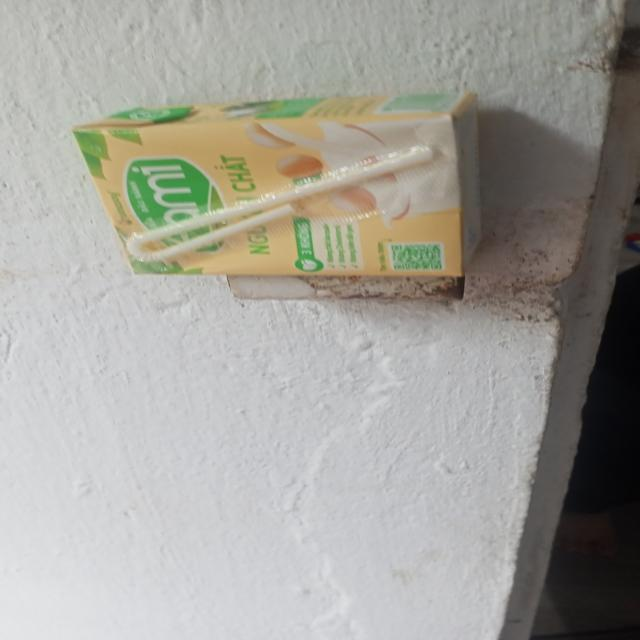Fami: (76, 101, 482, 273)
